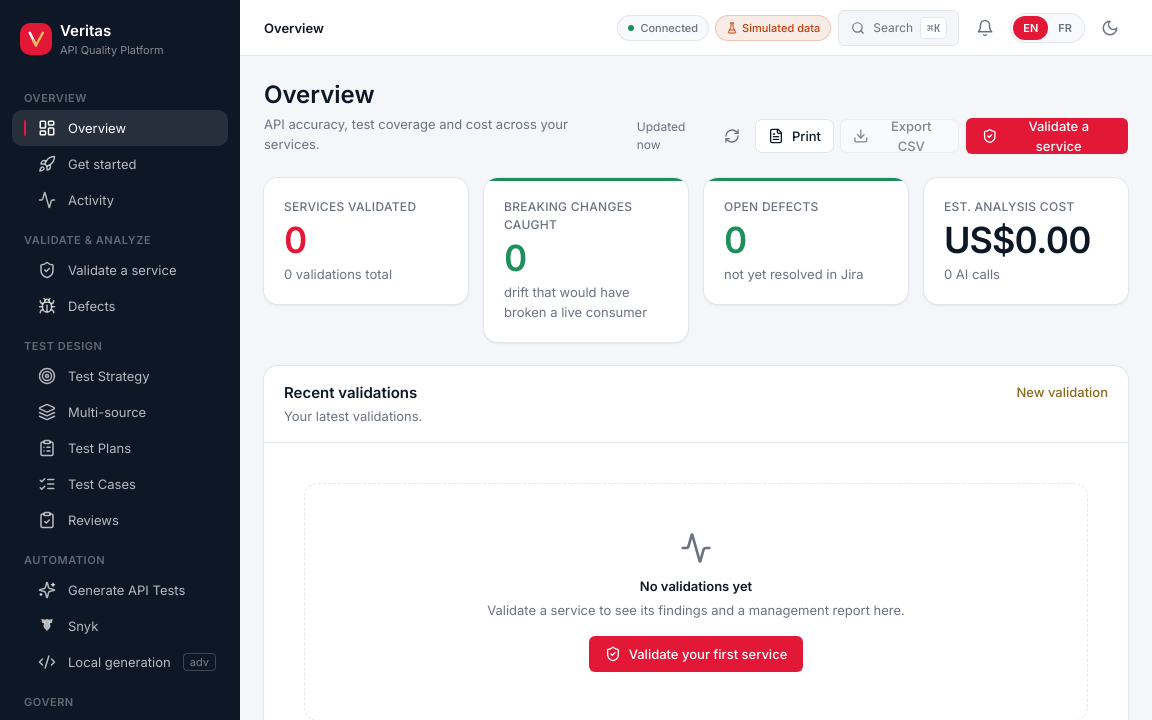
Test case: Command palette › opens from the header Search button and jumps to a page on Enter
Expected: the heading "Overview" is shown, [264,80,374,109]
Click the button "Search ⌘K". click: (899, 28)
box: [838,10,959,46]
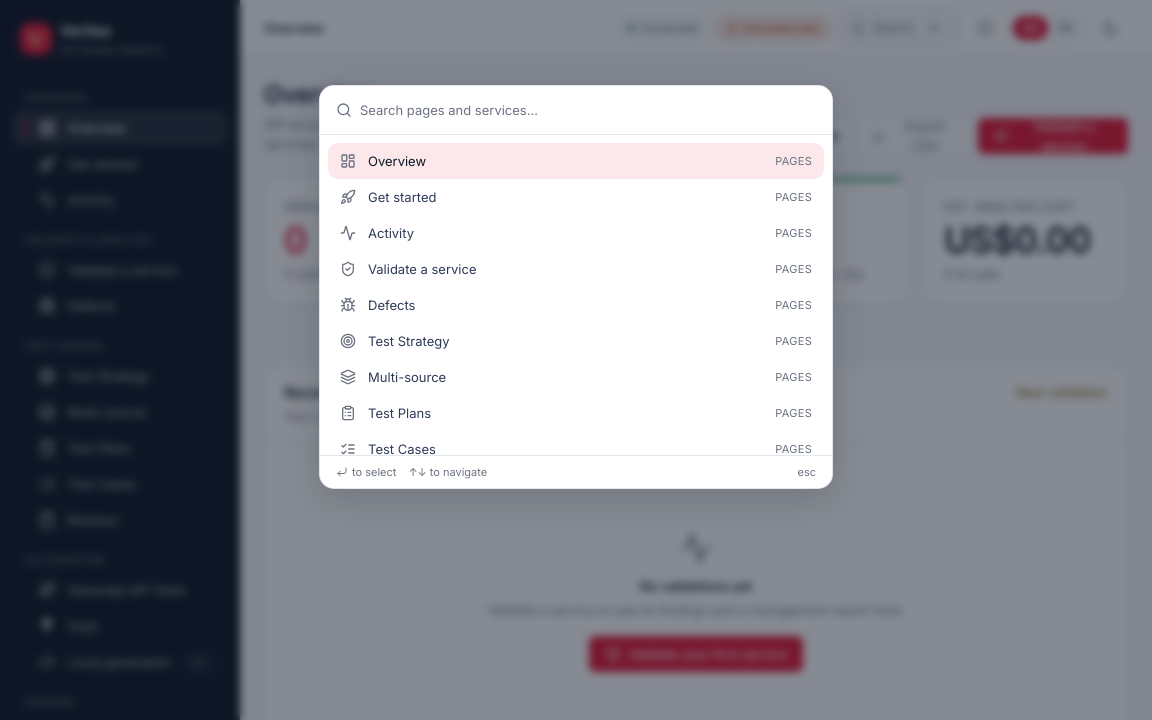
Type "cost" into the field with placeholder "Search pages and services…". click: (588, 110)
box: [360,86,816,134]
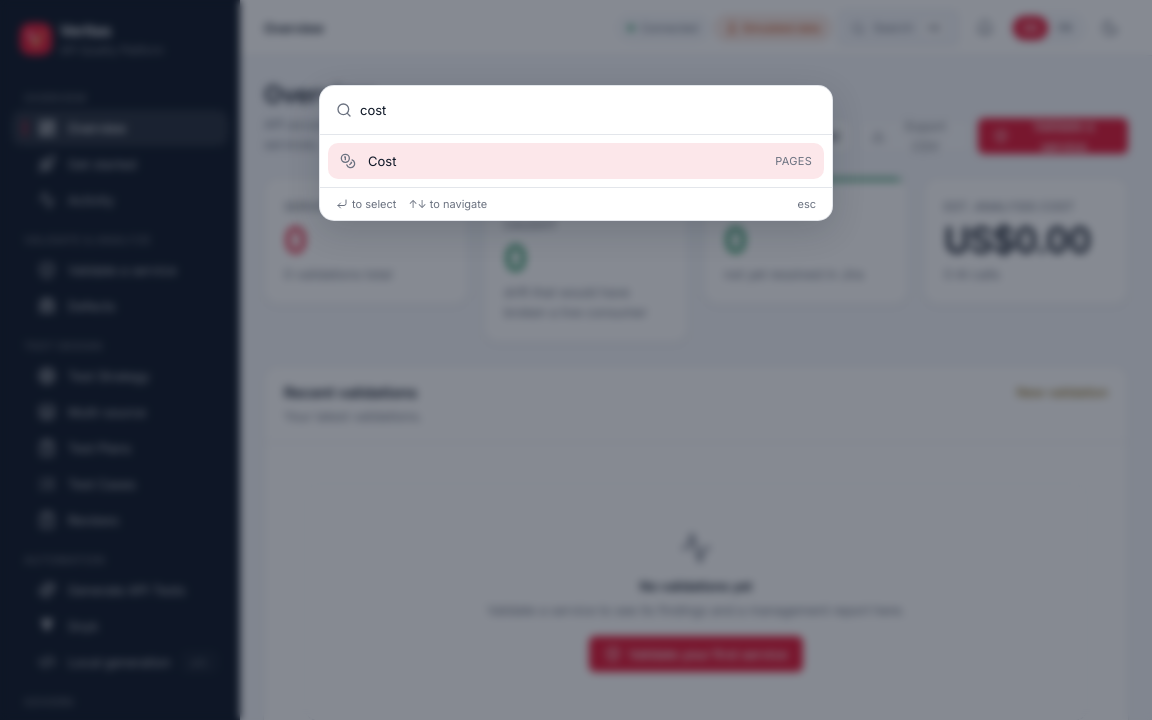
Press Enter
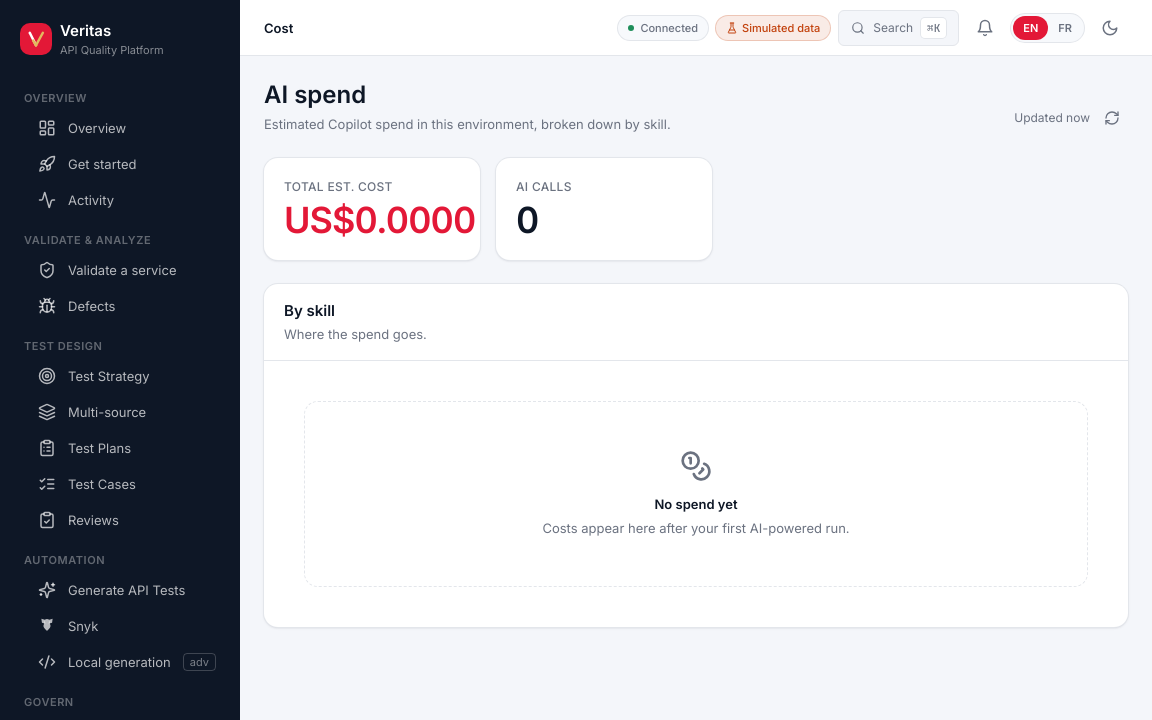
Expected: the heading "AI spend" is shown, [264,80,366,109]
